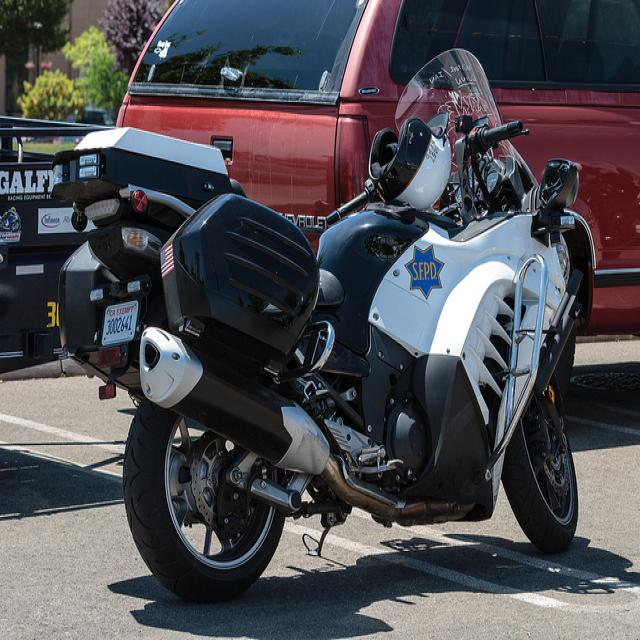motor: (123, 52, 597, 595)
